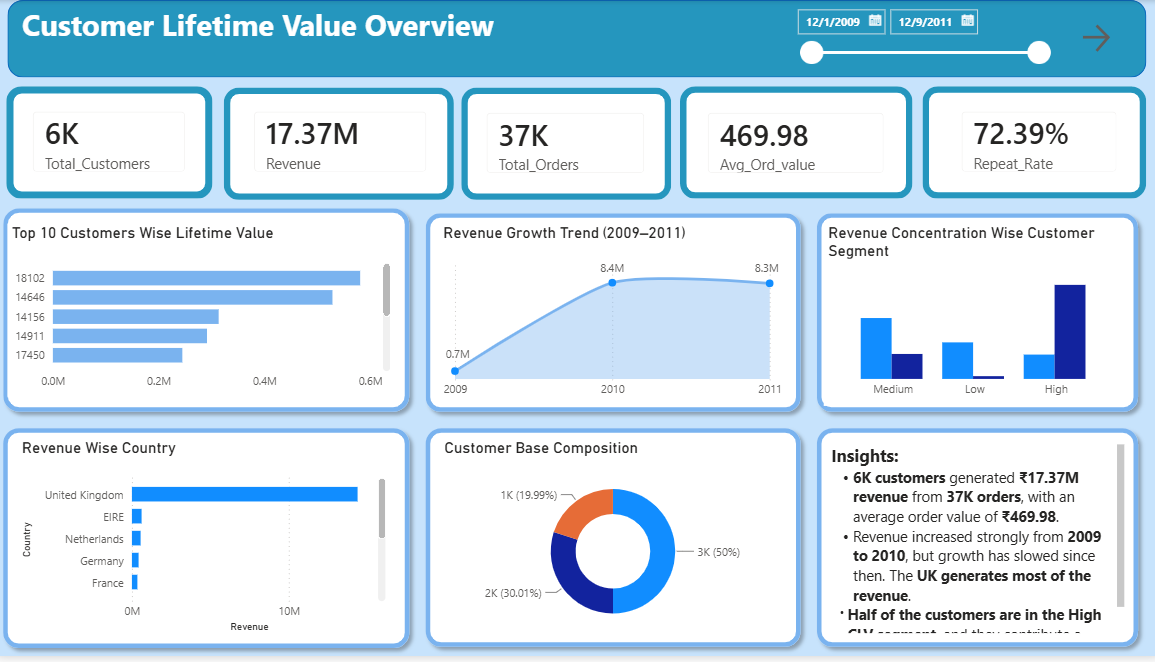

The dashboard page shown, as its layout file describes it:
{"tool":"powerbi","page":{"name":"Page 1","canvas":[1280,720],"ordinal":0},"visuals":[{"type":"shape","box":[12.3,94.7,226.4,123.5],"z":0},{"type":"cardVisual","fields":{"Data":["online_retail_combined.Total_Customers"]},"box":[24.7,105.7,201.7,100.2],"z":1000},{"type":"shape","box":[251.1,96.1,252.5,123.5],"z":2000},{"type":"shape","box":[511.8,96.1,230.5,123.5],"z":3000},{"type":"shape","box":[752,94.7,255.2,123.5],"z":4000},{"type":"shape","box":[1018.2,94.7,245.6,123.5],"z":5000},{"type":"cardVisual","fields":{"Data":["online_retail_combined.Revenue"]},"box":[267.6,105.7,223.7,100.2],"z":6000},{"type":"cardVisual","fields":{"Data":["online_retail_combined.Total_Orders"]},"box":[522.8,107,207.2,100.2],"z":7000},{"type":"cardVisual","fields":{"Data":["online_retail_combined.Avg_Ord_value"]},"box":[765.7,107,227.8,100.2],"z":8000},{"type":"cardVisual","fields":{"Data":["Customer.Repeat_Purchase_Rate"]},"box":[1044.3,105.7,204.5,100.2],"z":9000},{"type":"shape","box":[0,227.8,503.6,236],"z":10000},{"type":"clusteredBarChart","title":"Top 10 Customers Wise Lifetime Value","fields":{"Y":["online_retail_combined.Revenue"],"Category":["Customer.Customer_ID"]},"box":[24.7,245.6,452.8,200.3],"z":11000},{"type":"shape","box":[503.6,227.8,506.3,236],"z":12000},{"type":"lineChart","title":"\tRevenue Growth Trend (2009–2011)","fields":{"Y":["online_retail_combined.Revenue"],"Category":["online_retail_combined.InvoiceDate.Variation.Date Hierarchy.Year"]},"box":[526.9,245.6,461.1,200.3],"z":13000},{"type":"shape","box":[463.8,461.1,429.5,258],"z":14000},{"type":"shape","box":[0,461.1,463.8,259.3],"z":15000},{"type":"clusteredBarChart","title":"Revenue Wise Country","fields":{"Category":["online_retail_combined.Country"],"Y":["online_retail_combined.Revenue"]},"box":[25,481.4,409,217],"z":17000},{"type":"shape","box":[893.3,461.1,370.5,258],"z":18000},{"type":"donutChart","title":"Customer Base Composition","fields":{"Category":["Customer.CLV_Segment"],"Y":["online_retail_combined.Total_Customers"]},"box":[926.2,481.6,315.6,216.8],"z":19000},{"type":"shape","box":[13.7,0,1250.1,85.1],"z":20000},{"type":"textbox","box":[24.7,0,529.7,85.1],"z":21000},{"type":"actionButton","box":[1158.2,22,53.5,39.8],"z":22000},{"type":"shape","box":[1018.2,225,245.6,238.8],"z":23000},{"type":"clusteredColumnChart","title":"Revenue Concentration Wise Customer Segment","fields":{"Category":["Customer.CLV_Segment"],"Y":["online_retail_combined.Pct_of_Total_Customers","online_retail_combined.Pct_of_Total_Revenue"]},"box":[487.1,481.6,381.5,216.8],"z":24000},{"type":"slicer","fields":{"Values":["online_retail_combined.InvoiceDate.Variation.Date Hierarchy.Year"]},"box":[1044.3,245.6,204.5,49.4],"z":26000},{"type":"slicer","fields":{"Values":["online_retail_combined.InvoiceDate.Variation.Date Hierarchy.Month"]},"box":[1042.9,304.6,205.8,71.4],"z":27000},{"type":"slicer","fields":{"Values":["online_retail_combined.Country"]},"box":[1044.3,380.1,204.5,71.4],"z":27001}]}

Visuals, with their boxes in screenshot pixels (x1, y1, x2, y2), scaled from the page's 1280x720 canvas onto the 1155x662 screenshot:
shape: l=11, t=87, r=215, b=201
cardVisual - online_retail_combined.Total_Customers: l=22, t=97, r=204, b=189
shape: l=227, t=88, r=454, b=202
shape: l=462, t=88, r=670, b=202
shape: l=679, t=87, r=909, b=201
shape: l=919, t=87, r=1140, b=201
cardVisual - online_retail_combined.Revenue: l=241, t=97, r=443, b=189
cardVisual - online_retail_combined.Total_Orders: l=472, t=98, r=659, b=191
cardVisual - online_retail_combined.Avg_Ord_value: l=691, t=98, r=896, b=191
cardVisual - Customer.Repeat_Purchase_Rate: l=942, t=97, r=1127, b=189
shape: l=0, t=209, r=454, b=426
"Top 10 Customers Wise Lifetime Value" clusteredBarChart: l=22, t=226, r=431, b=410
shape: l=454, t=209, r=911, b=426
"	Revenue Growth Trend (2009–2011)" lineChart: l=475, t=226, r=892, b=410
shape: l=419, t=424, r=806, b=661
shape: l=0, t=424, r=419, b=661
"Revenue Wise Country" clusteredBarChart: l=23, t=443, r=392, b=642
shape: l=806, t=424, r=1140, b=661
"Customer Base Composition" donutChart: l=836, t=443, r=1121, b=642
shape: l=12, t=0, r=1140, b=78
textbox: l=22, t=0, r=500, b=78
actionButton: l=1045, t=20, r=1093, b=57
shape: l=919, t=207, r=1140, b=426
"Revenue Concentration Wise Customer Segment" clusteredColumnChart: l=440, t=443, r=784, b=642
slicer - online_retail_combined.InvoiceDate.Variation.Date Hierarchy.Year: l=942, t=226, r=1127, b=271
slicer - online_retail_combined.InvoiceDate.Variation.Date Hierarchy.Month: l=941, t=280, r=1127, b=346
slicer - online_retail_combined.Country: l=942, t=349, r=1127, b=415
